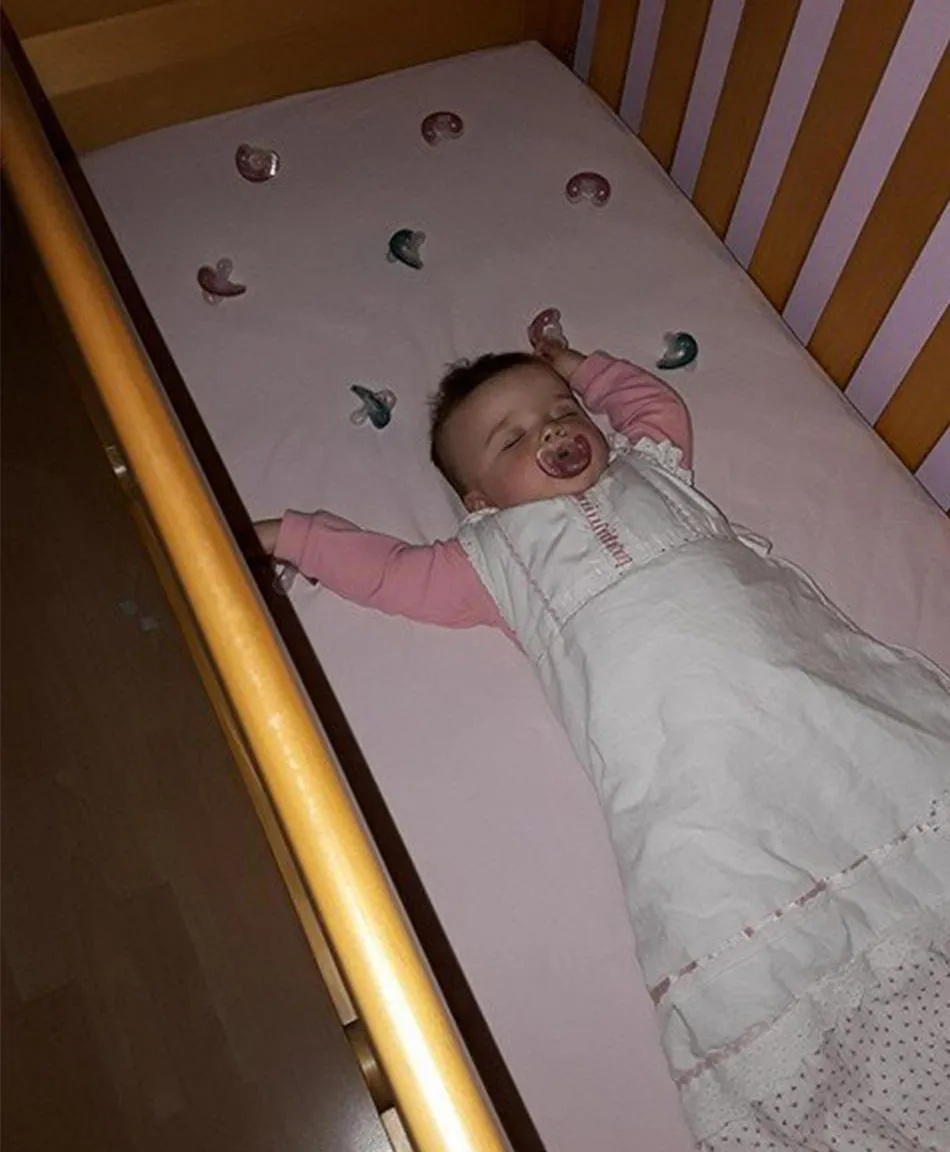baby: (258, 340, 949, 1151)
crib: (4, 0, 949, 1148)
